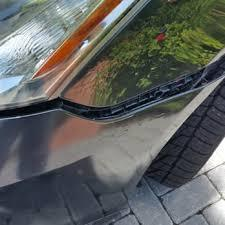Bumper: (0, 45, 224, 132)
